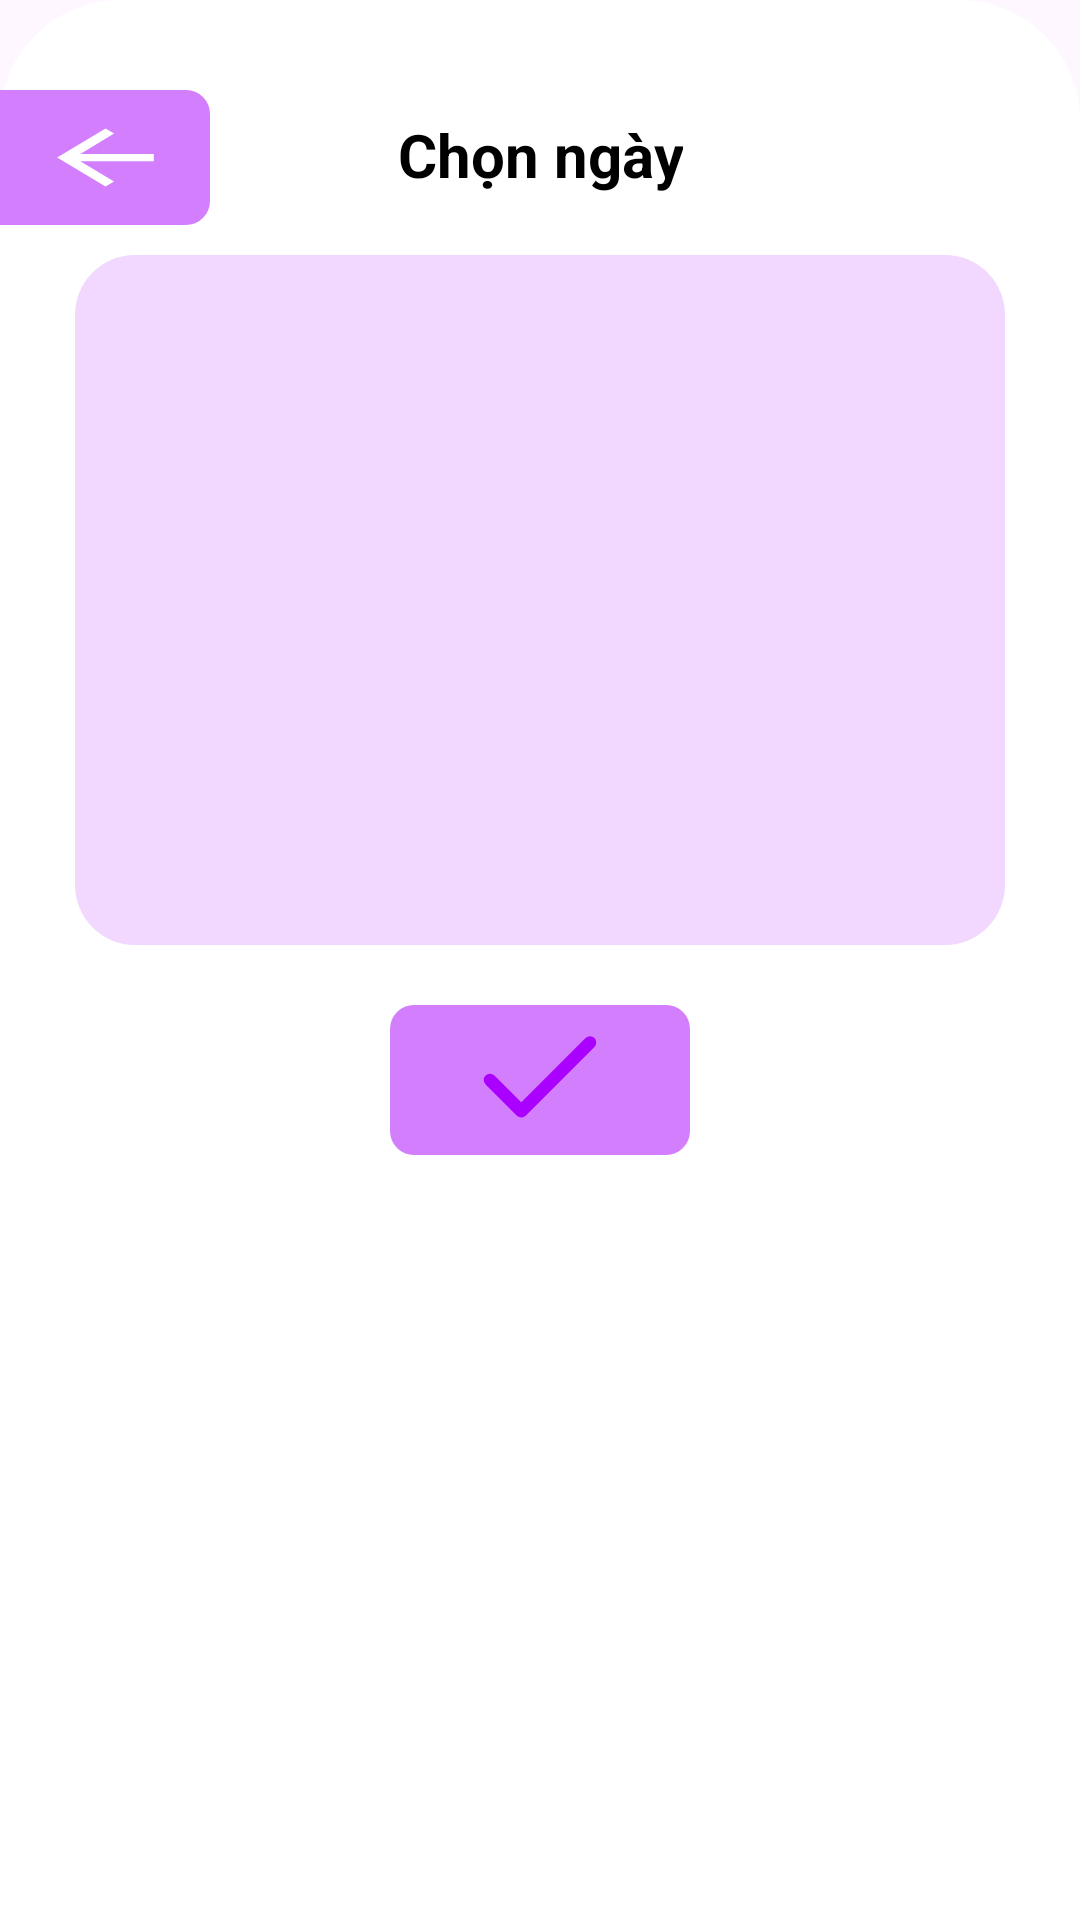

Icon bounding boxes for this 1080x1920 phone screenshot, format (x1, y1, x2, y2):
arrow back: (0, 90, 210, 225)
check: (390, 1005, 690, 1155)
